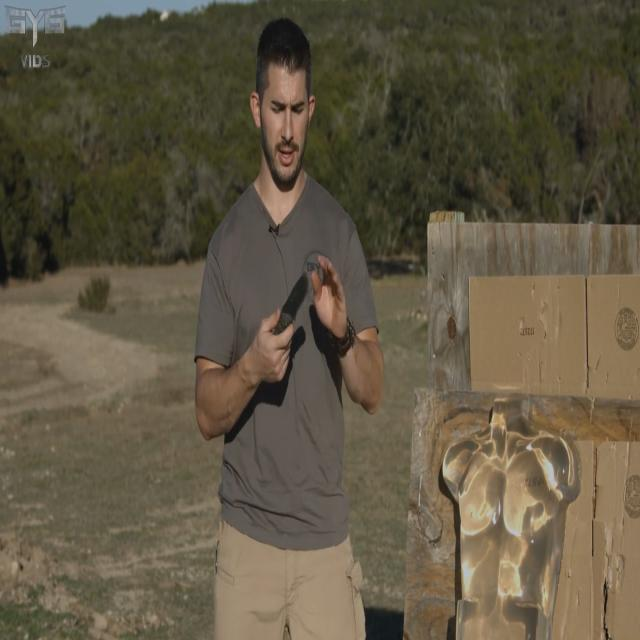knife: (281, 268, 311, 334)
